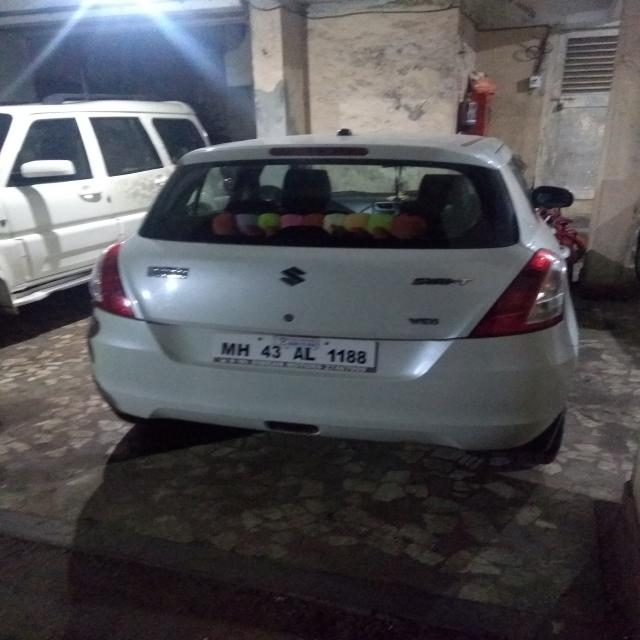Number-Plate: (211, 332, 371, 371)
